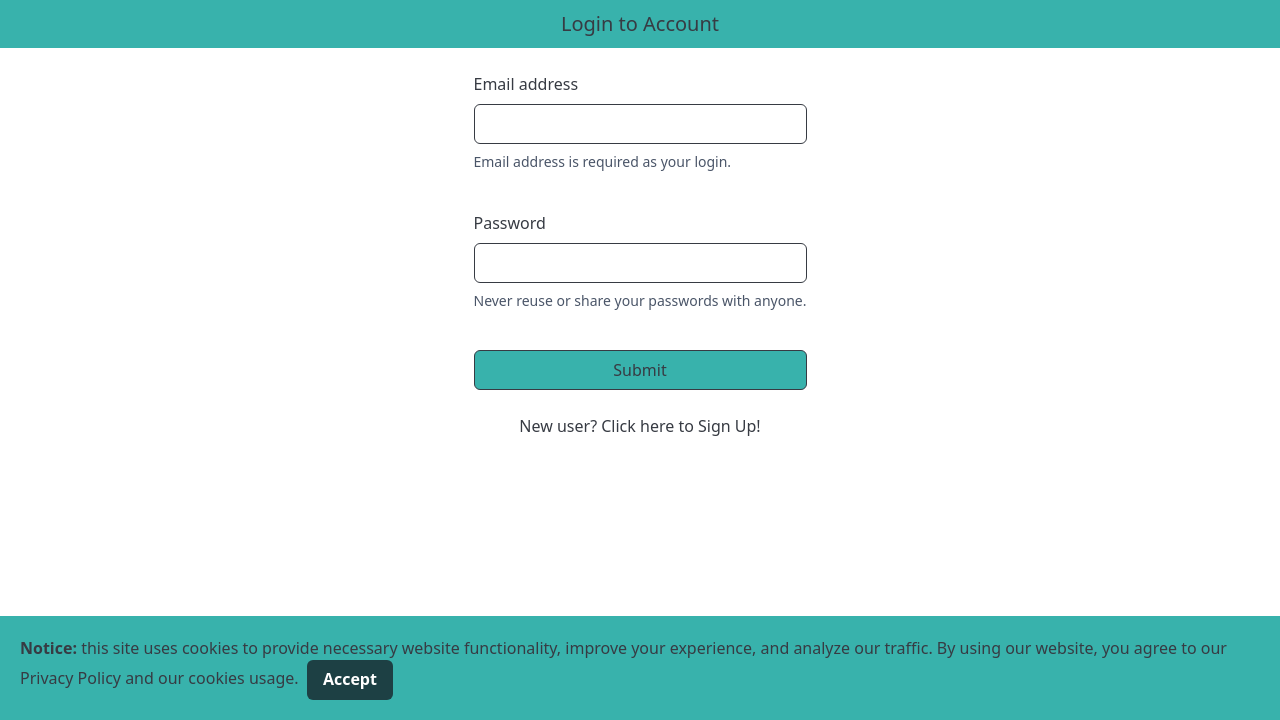
Login form submissions › Error validations › shows error when using an empty password
Click the button "Accept": (350, 680) [307,660,393,700]
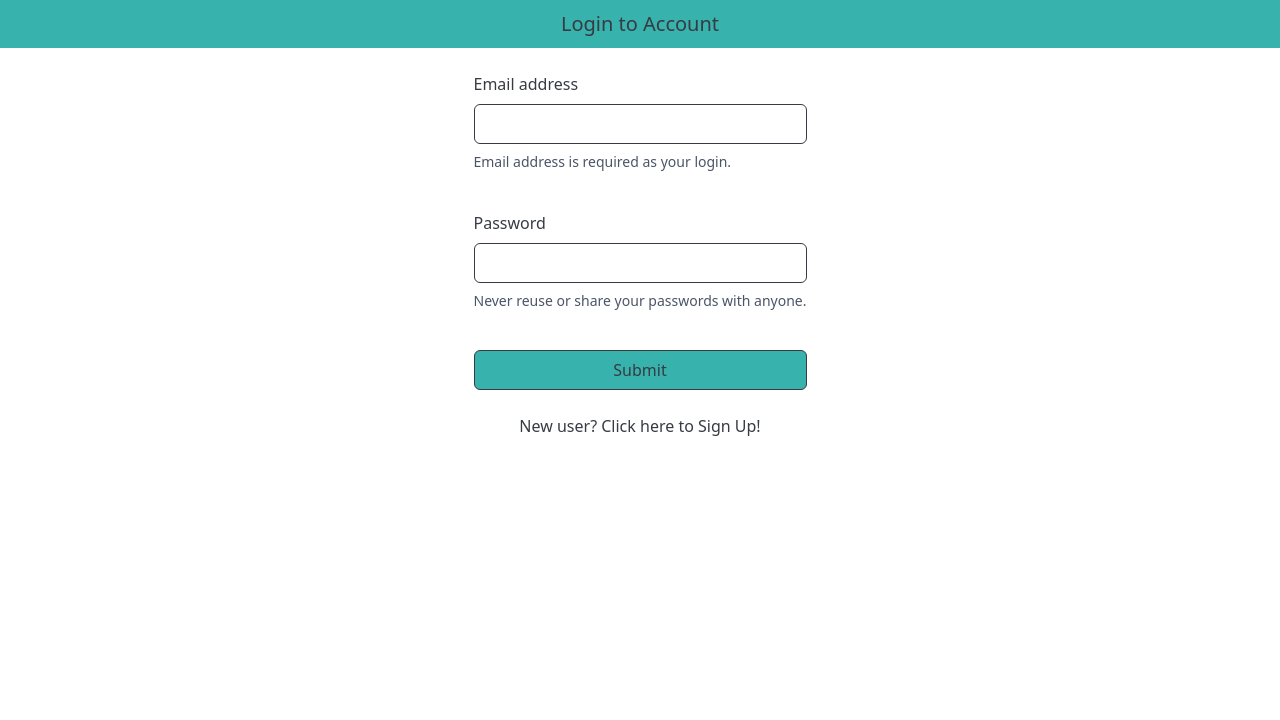
In the field with test id "username": (641, 124) [474,104,807,144], type "valid-user@gmail.com"
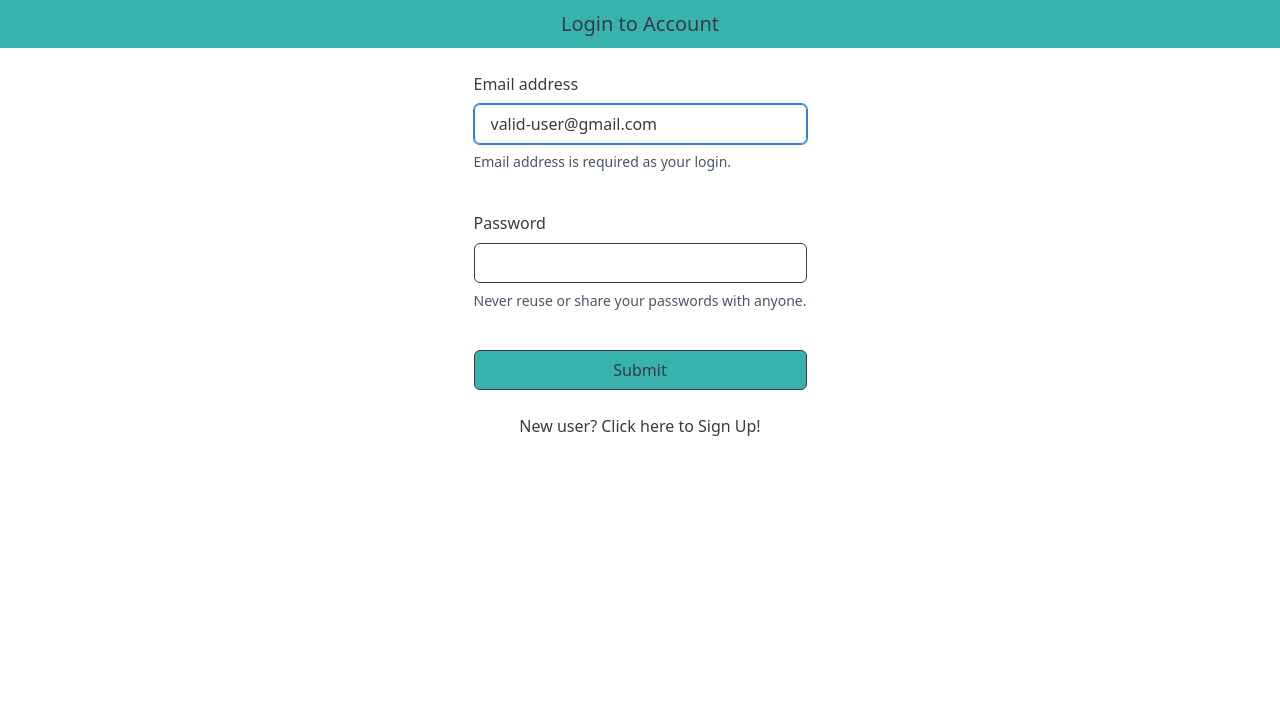
Click the button with test id "submit": (641, 370) [474,350,807,390]
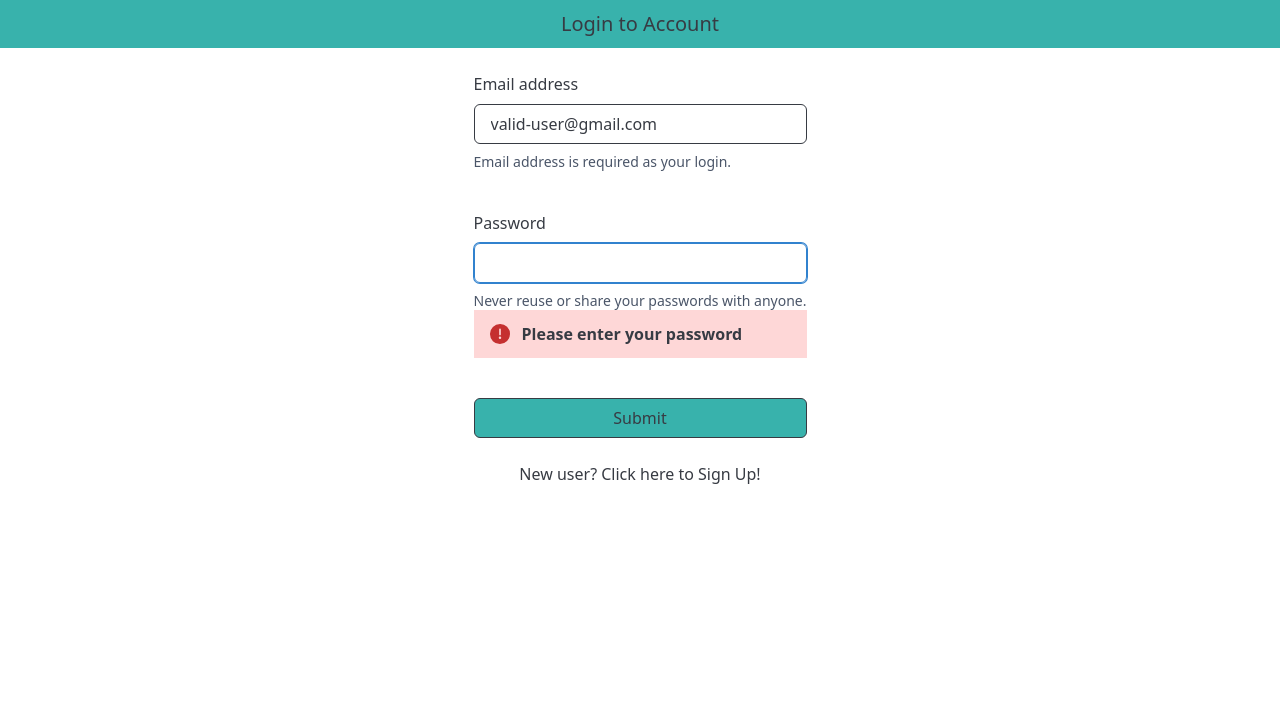
Check: the message "Please enter your password" is shown, box [474,310,806,358]
